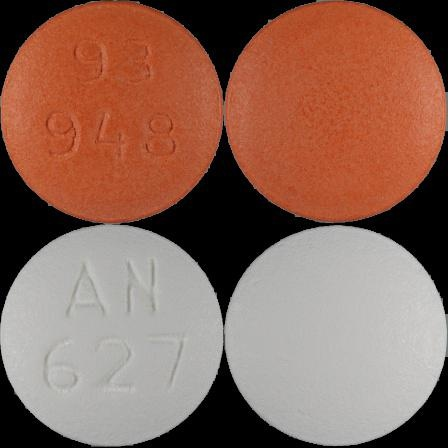61919-072: (0, 0, 224, 224)
